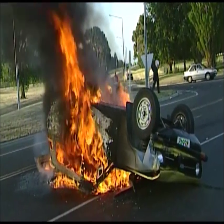fire_h: (49, 9, 114, 185), (94, 168, 130, 195), (50, 172, 79, 191)
fire_l: (120, 81, 131, 105), (43, 156, 55, 170), (105, 81, 112, 95)
